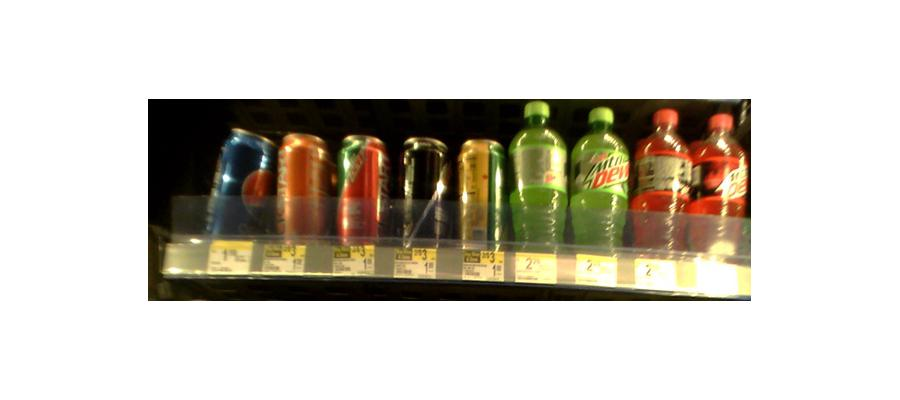bottle: (508, 101, 569, 253), (630, 106, 690, 255), (570, 106, 629, 253), (202, 127, 276, 238), (693, 107, 743, 255), (395, 136, 451, 246), (455, 134, 508, 250), (277, 133, 332, 241), (334, 136, 387, 242)
